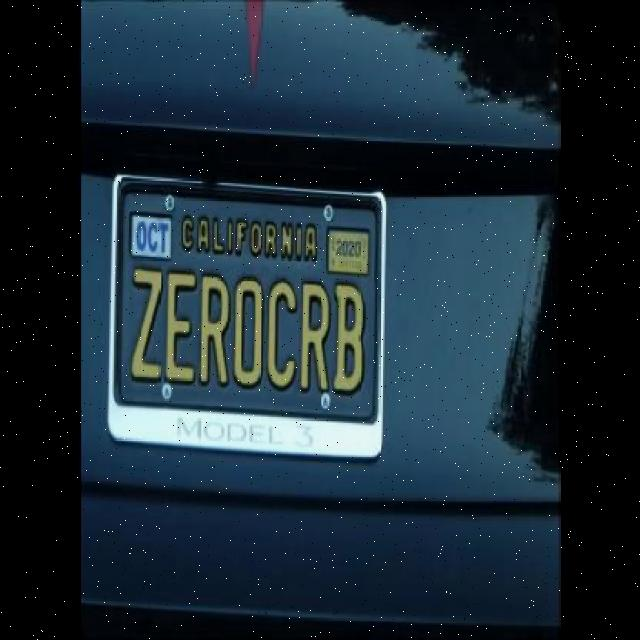licenseplate: (113, 173, 390, 464)
